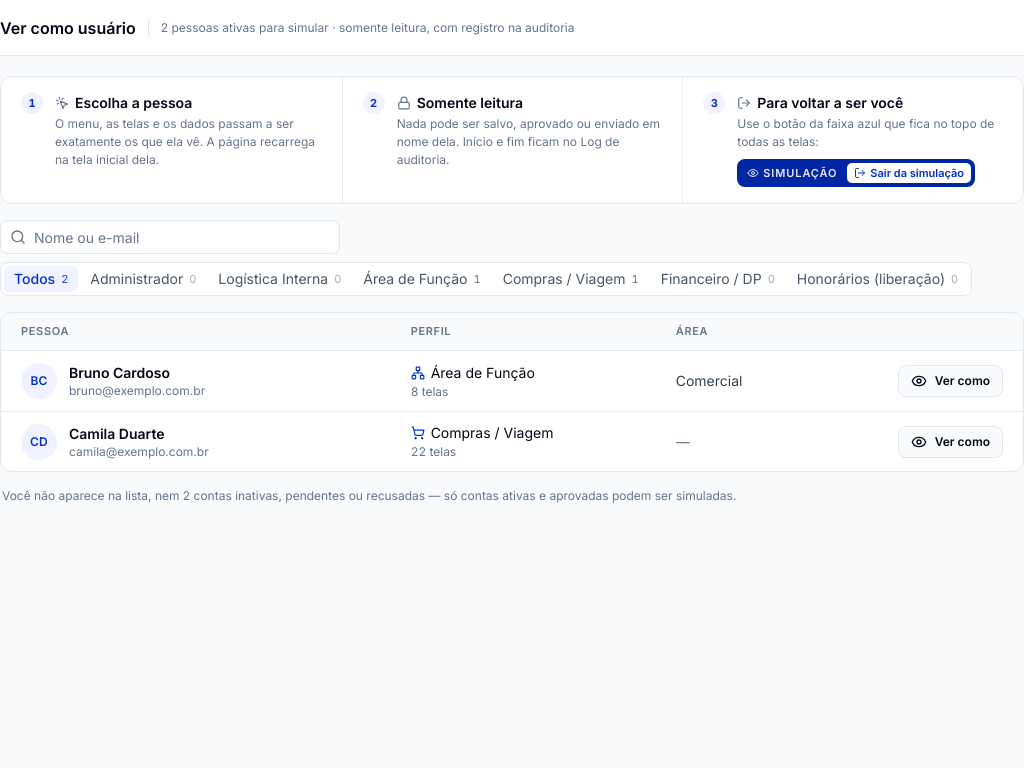
Scenario: Ver como usuário › escolher abre a confirmação; só confirmar faz o POST de sempre
Click the button with aria-label "Ver o sistema como Bruno Cardoso".
click(120, 373)  # box [69,363,170,383]
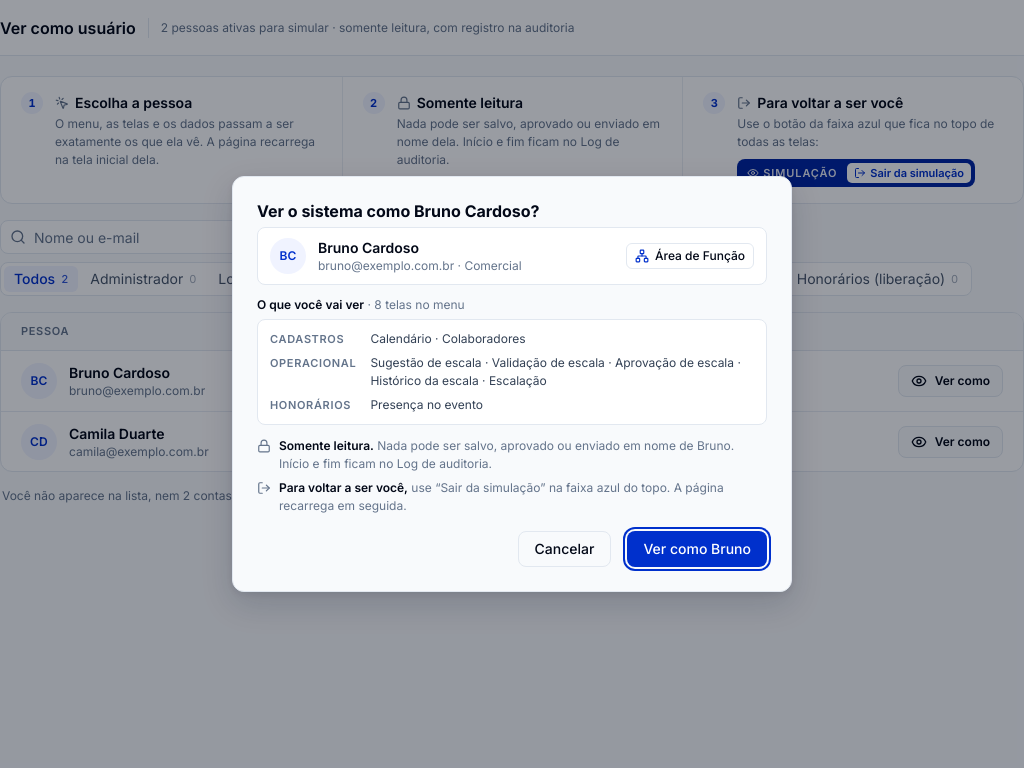
Expected: the dialog with test id "sim-confirmar" shows "Ver o sistema como Bruno Cardoso?", [232,176,792,592]
Expected: the dialog with test id "sim-confirmar" shows "Sair da simulação", [279,480,724,513]
Expected: the dialog with test id "sim-confirmar" shows "Validação de escala", [370,355,741,388]
Click the button with test id "sim-confirmar-entrar".
click(697, 549)  # box [627,531,767,567]
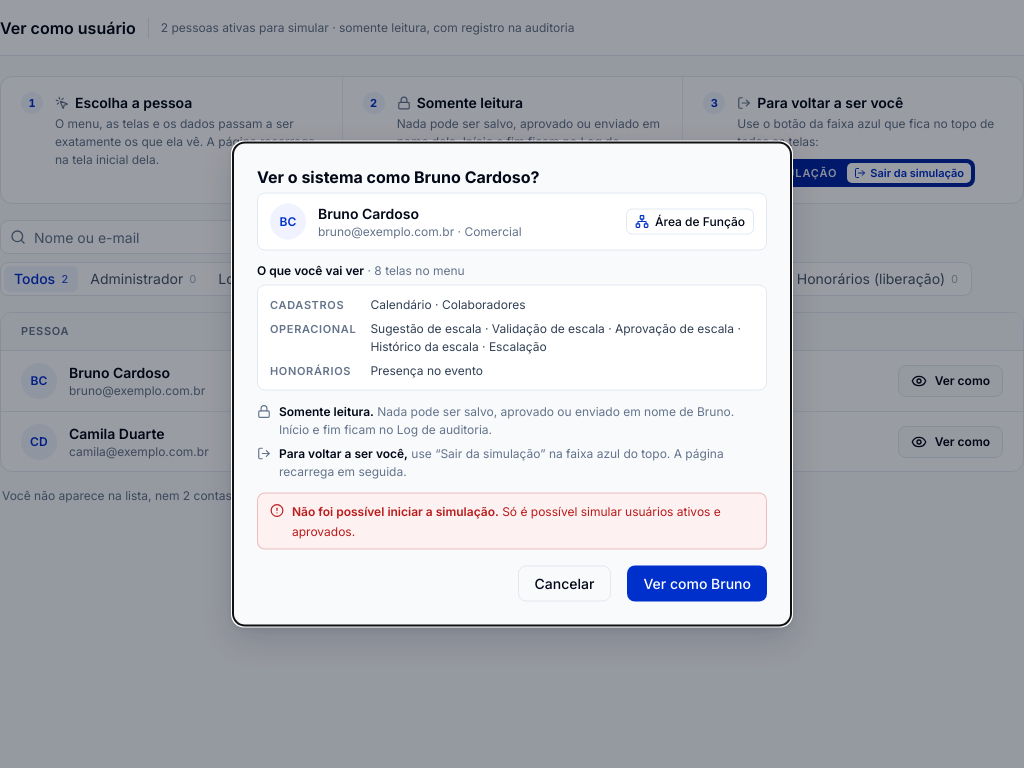
Expected: the message with test id "sim-erro-iniciar" shows "Só é possível simular usuários ativos e aprovados.", [292,504,721,538]
